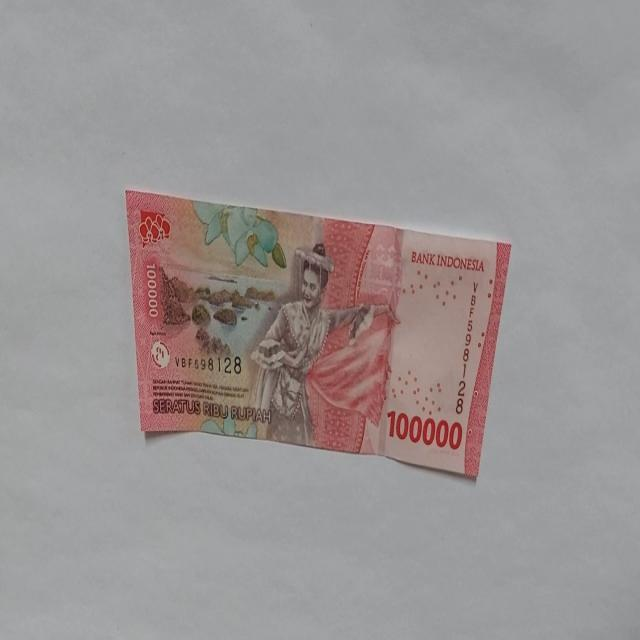seratus ribu rupiah: (124, 188, 512, 480), (247, 241, 398, 451)
